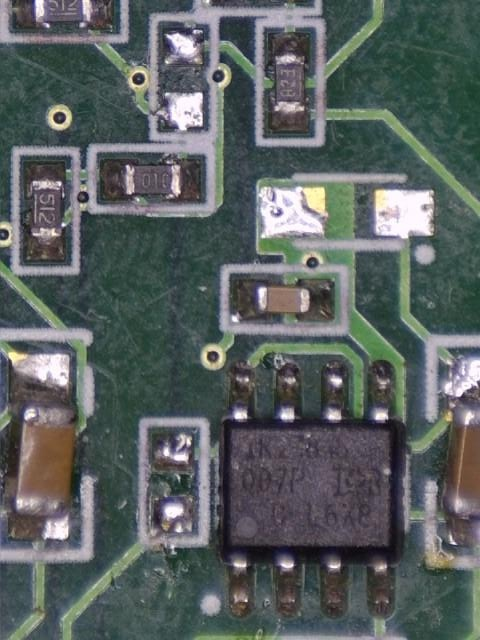pcb_defect: (7, 352, 78, 542), (442, 357, 480, 550)
